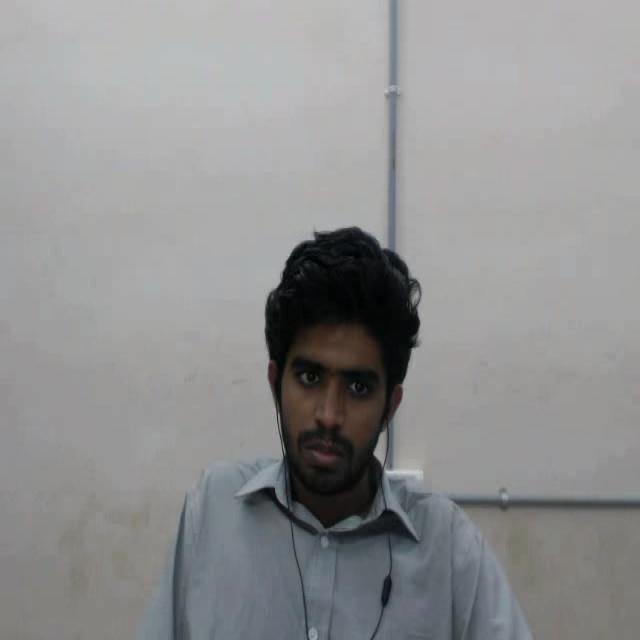Engaged: (253, 204, 440, 528)
